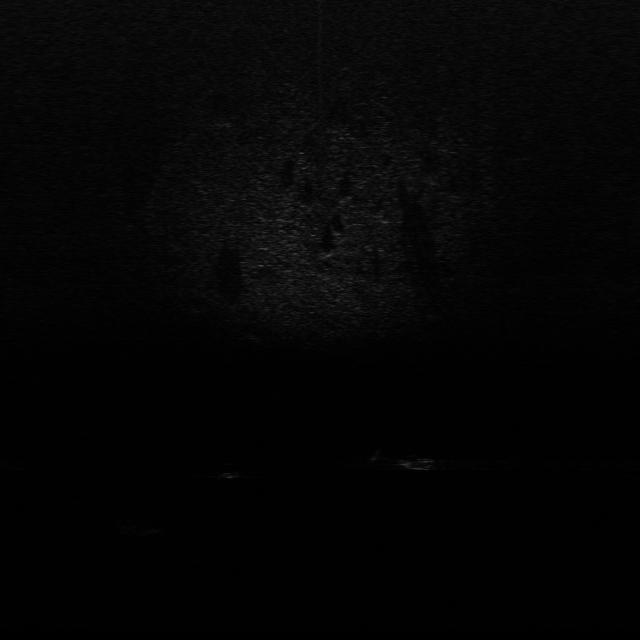ball: (208, 457, 247, 480)
circle cage: (114, 514, 174, 540)
human body: (366, 445, 453, 477)
